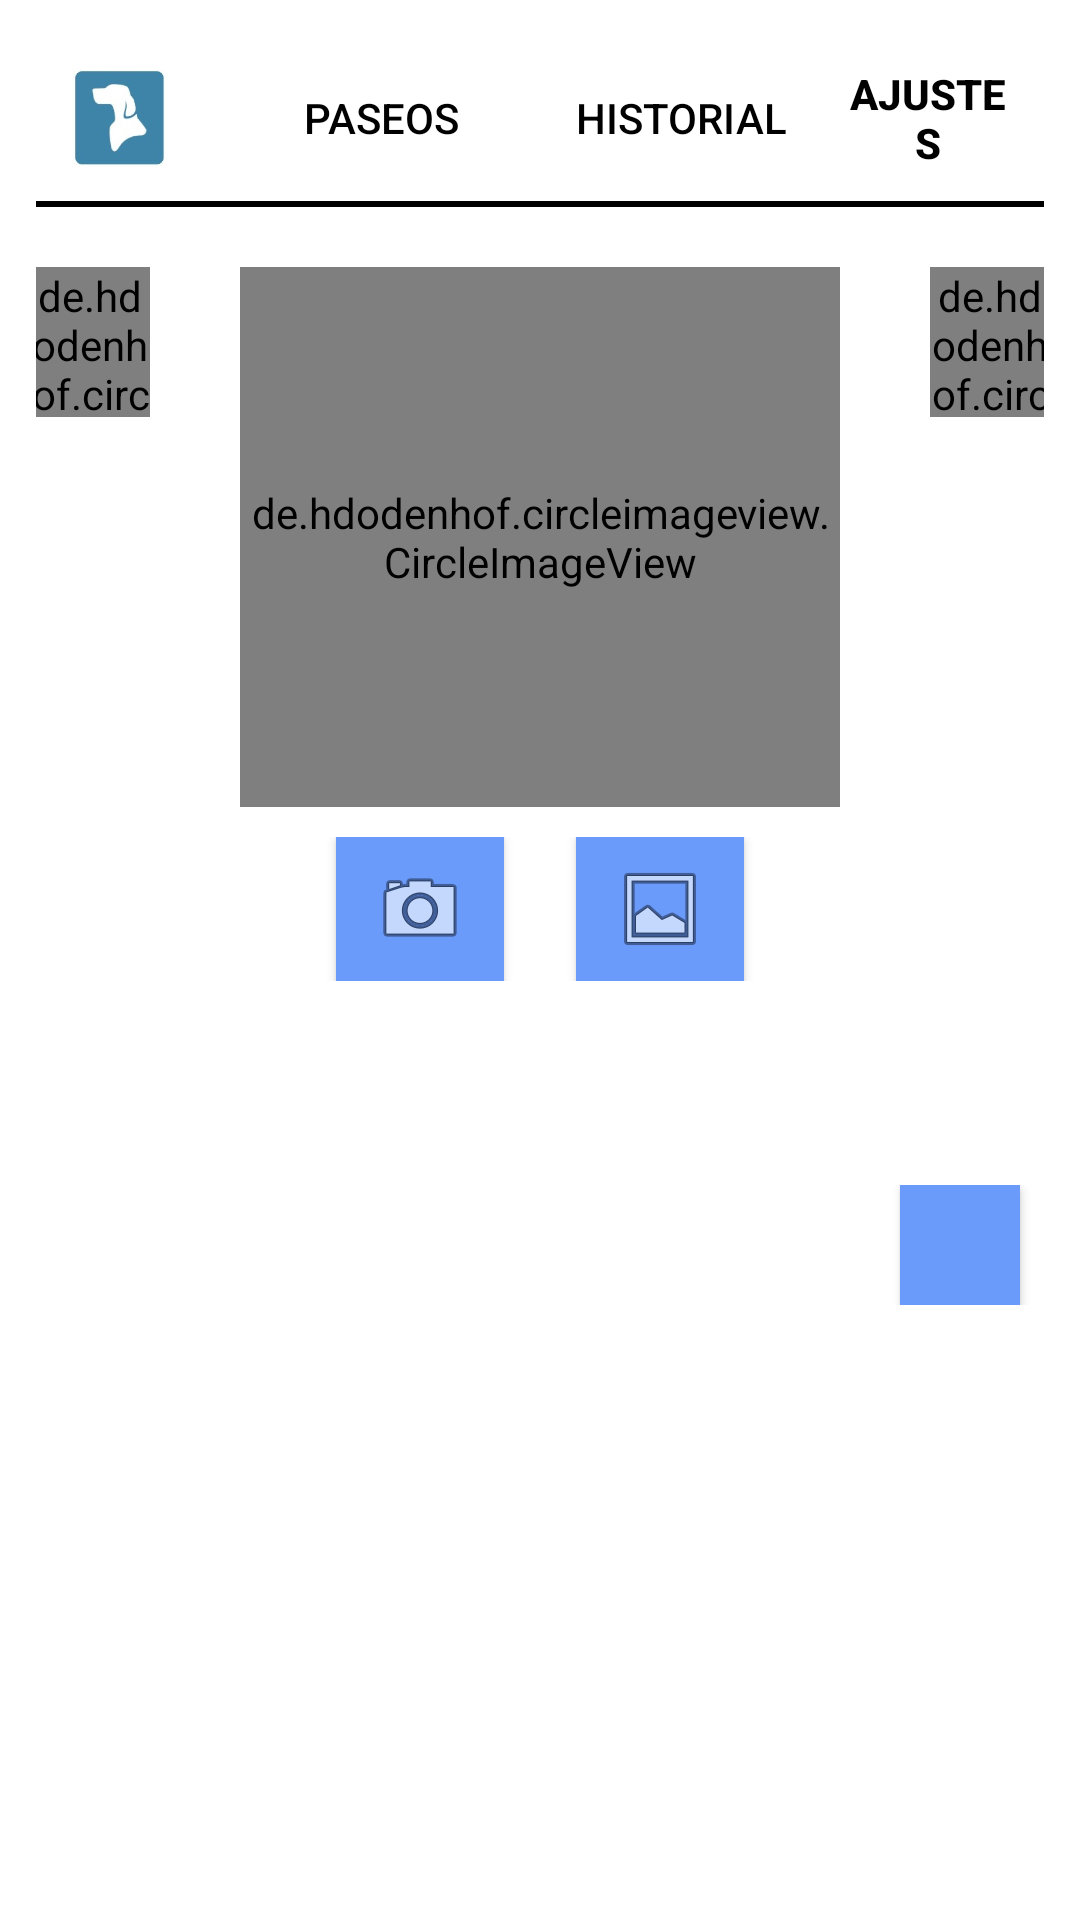

Icons on this 1080*1920 Android screen, each with the point to tap as (x,y):
camera: (420,909)
gallery: (660,909)
loguito: (119,118)
